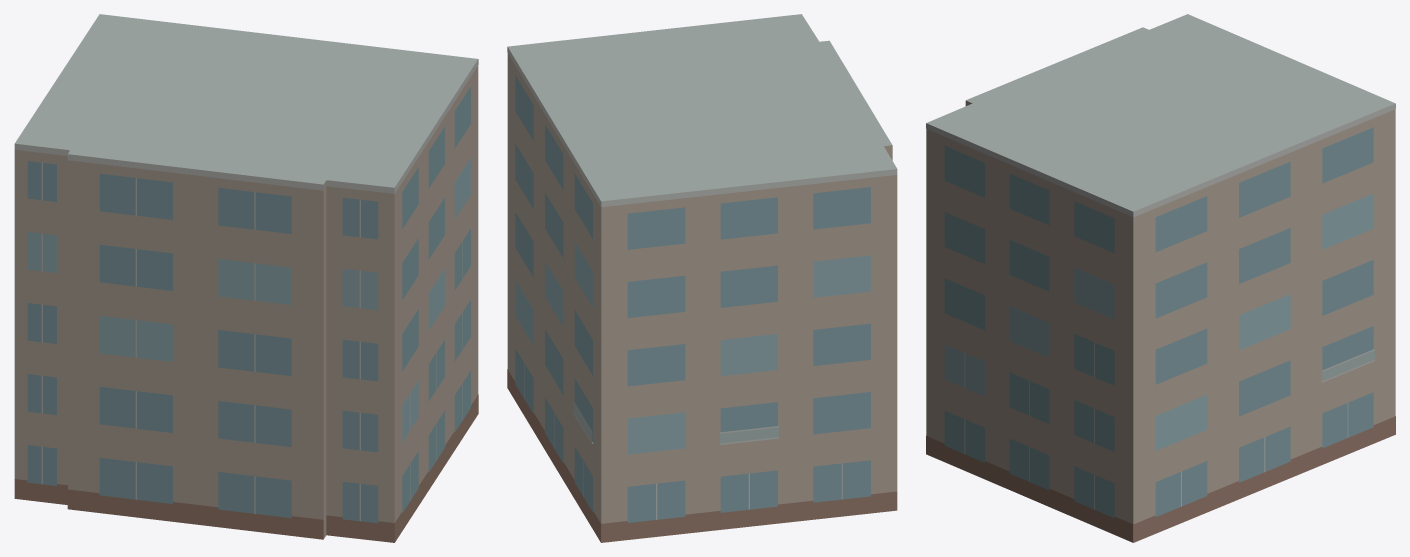
The model's file is survey-upis-33000005.glb.
3 views of the same model, side by side, from view 1: azimuth 30°, elevation 25°; view 2: azimuth 150°, elevation 25°; view 3: azimuth 270°, elevation 25° (orthographic). The views are drawn at different scales.
Visible parts, largest first — view 1: survey-upis-33000005.tmp; view 2: survey-upis-33000005.tmp; view 3: survey-upis-33000005.tmp.
Part boxes in pixels (bbox=[...]): survey-upis-33000005.tmp: bbox=[14, 14, 478, 542]; survey-upis-33000005.tmp: bbox=[507, 14, 897, 542]; survey-upis-33000005.tmp: bbox=[926, 14, 1395, 542].
Size of the model in its own units: 18.32 by 14.3 by 18.39.
